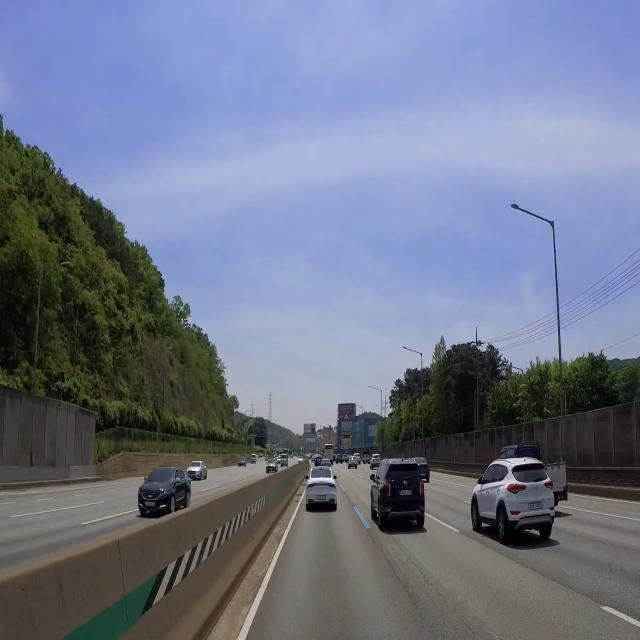car: (526, 499, 546, 516), (143, 495, 160, 514), (315, 488, 330, 509), (398, 486, 414, 499)
